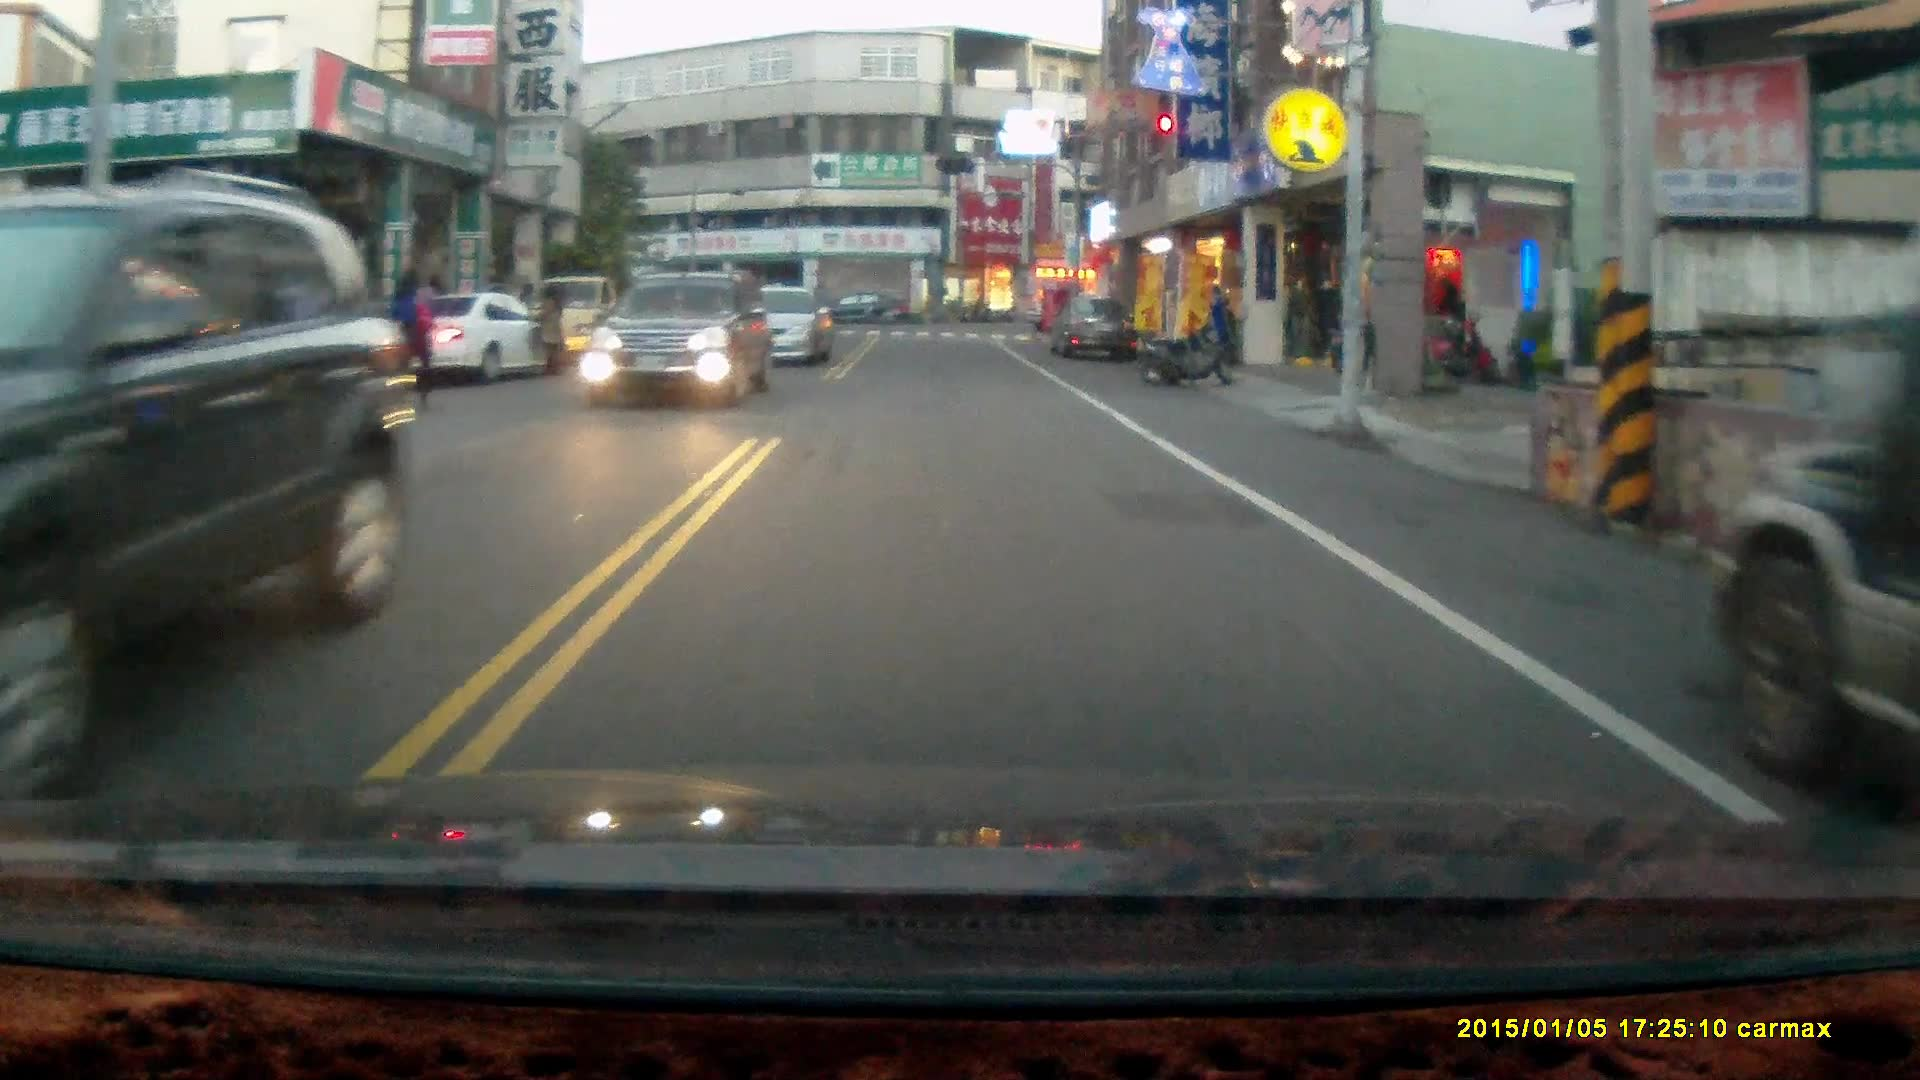pedestrian: (392, 266, 433, 413), (527, 279, 563, 377)
vehicle: (1, 166, 408, 785), (1691, 432, 1920, 787), (593, 266, 776, 409), (379, 289, 569, 387), (713, 281, 837, 366), (1046, 296, 1140, 366), (811, 290, 918, 329)
